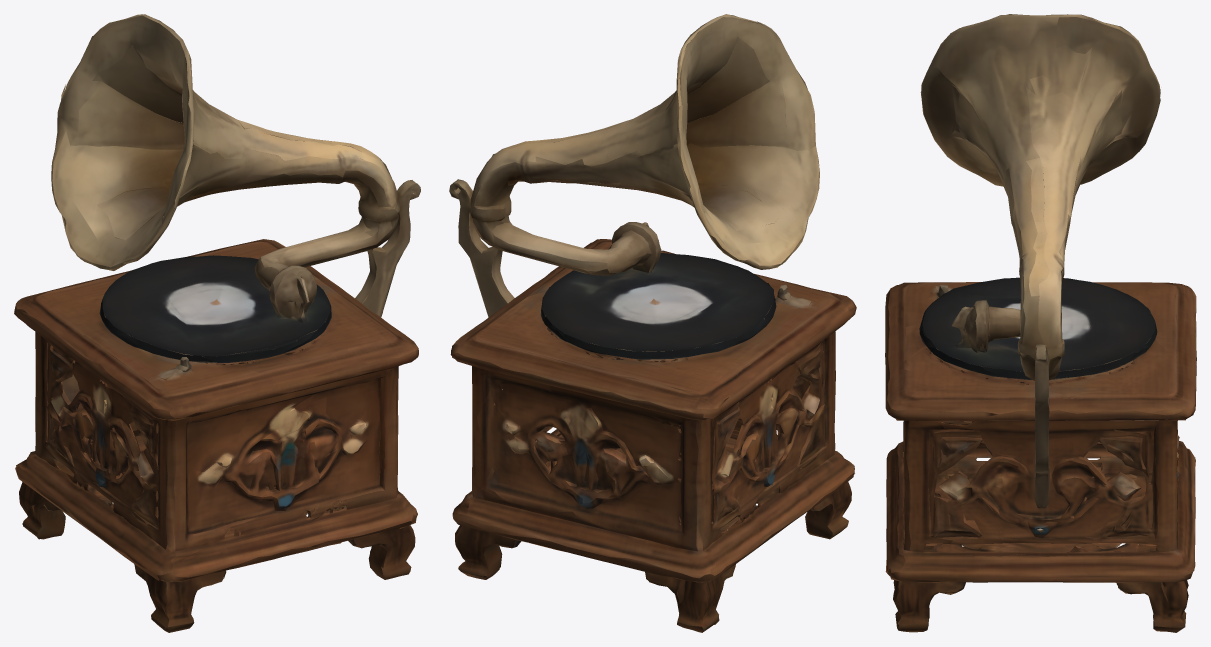
File: unified--musicbox.glb
3 renders of one model, left to right at view 1: azimuth 30°, elevation 25°; view 2: azimuth 150°, elevation 25°; view 3: azimuth 270°, elevation 25°, orthographic.
Parts seen in each view (by area): view 1: musicbox-1; view 2: musicbox-1; view 3: musicbox-1.
Part boxes in pixels (<box>): musicbox-1: <box>14,14,420,632</box>; musicbox-1: <box>449,14,856,632</box>; musicbox-1: <box>885,14,1196,632</box>.
Bounding box in the file's own units: 0.3585 × 0.5504 × 0.2896.
Materials: 1 (1 with a texture image).
